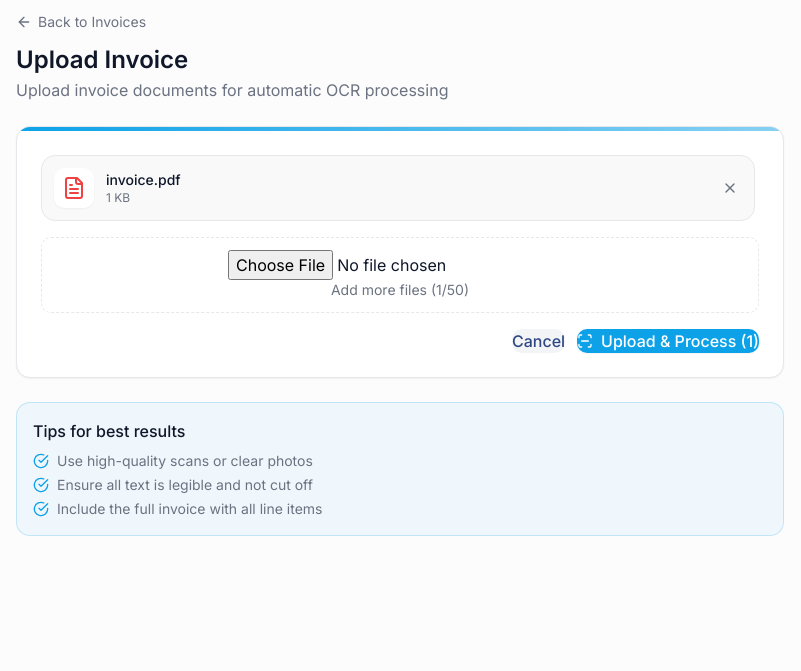
Test: PostUploadTracker › shows "Go to Approval Queue" link after submit returns current_queue_id
The image size is (801, 671).
Expected: the text "invoice.pdf" is shown, [106,171,181,188]
Click the button "Upload & Process (1)".
click(668, 341)  # box [577,329,759,353]
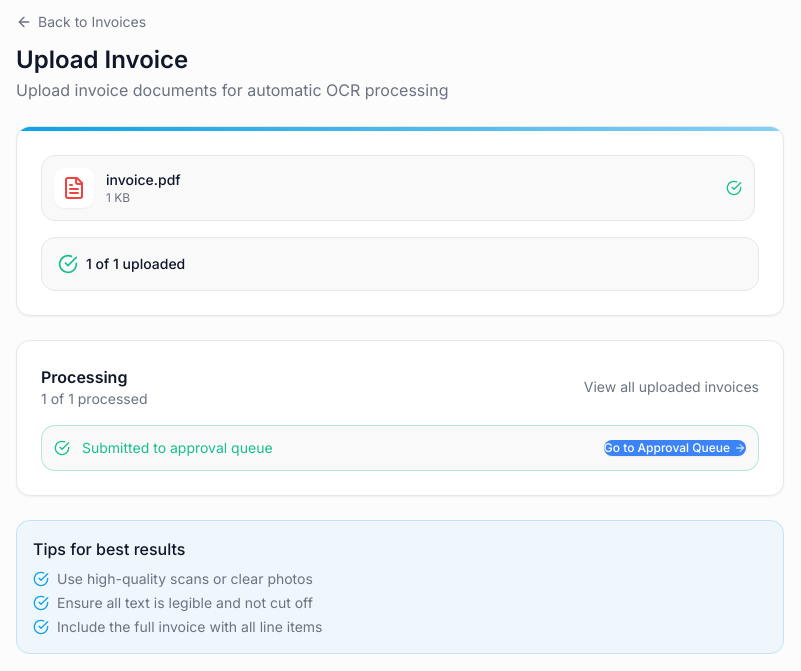
Expected: the link "Go to Approval Queue" is shown, [604,440,746,456]
